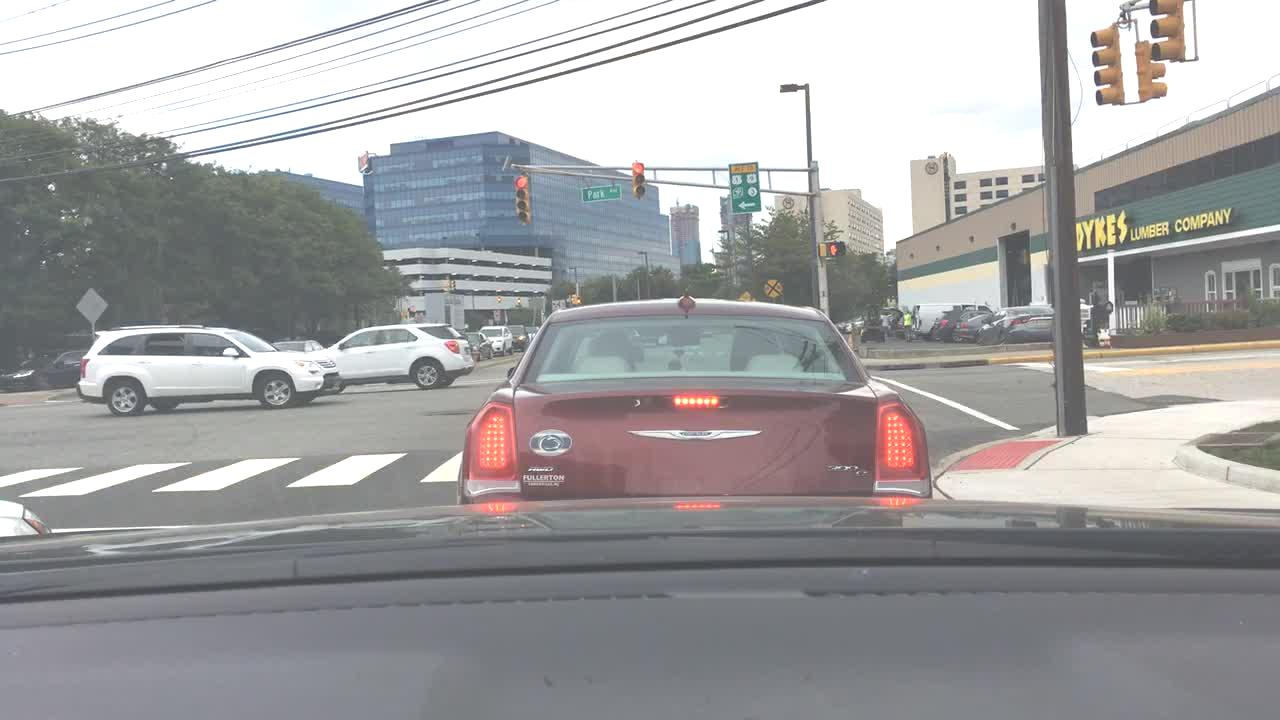Chrysler: (625, 418, 772, 450)
